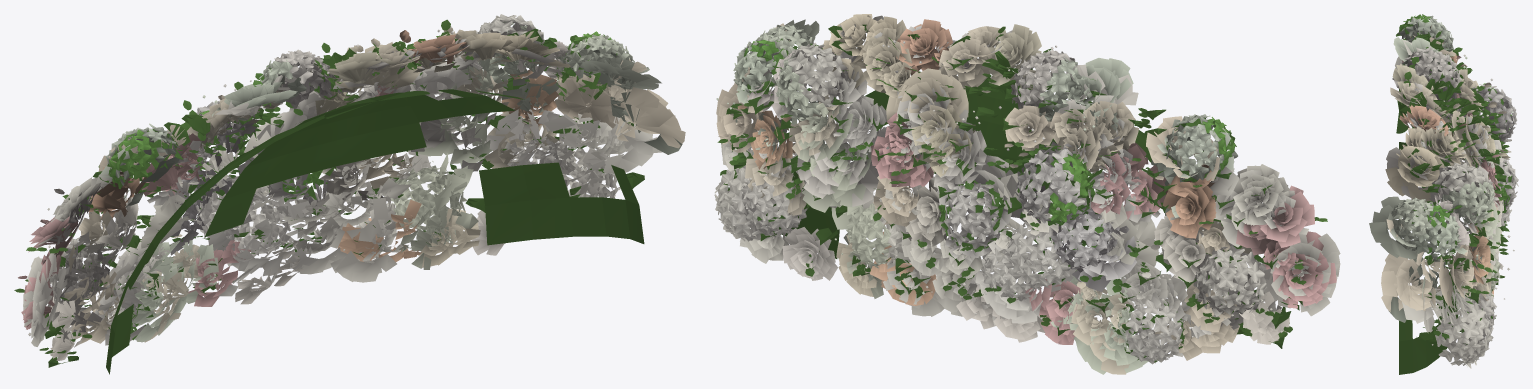
Rendered from vr27n_D_bank_bright_v9.glb.
The picture shows the model from 3 angles, left to right: view 1: azimuth 30°, elevation 25°; view 2: azimuth 150°, elevation 25°; view 3: azimuth 270°, elevation 25°; orthographic projection. The views are drawn at different scales.
Visible parts, largest first — view 1: petals; view 2: petals; view 3: petals.
Boxes of the visible parts, bbox=[...] form: petals: bbox=[14, 14, 685, 374]; petals: bbox=[714, 14, 1340, 374]; petals: bbox=[1369, 14, 1518, 374].
Size of the model in its own units: 0.0235 by 0.0101 by 0.00602.
